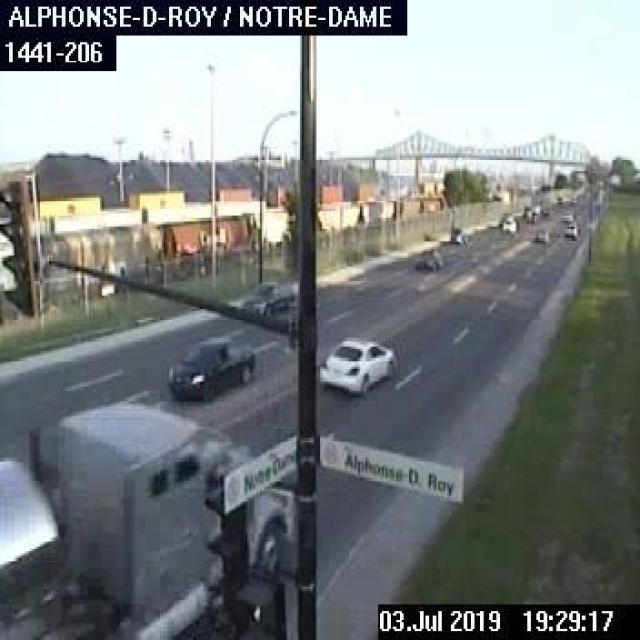vehicle: (0, 400, 296, 638), (166, 333, 254, 400), (318, 334, 393, 396), (238, 280, 295, 313), (414, 249, 444, 267), (559, 220, 579, 238), (447, 227, 464, 245), (499, 214, 517, 231), (529, 229, 547, 244)
